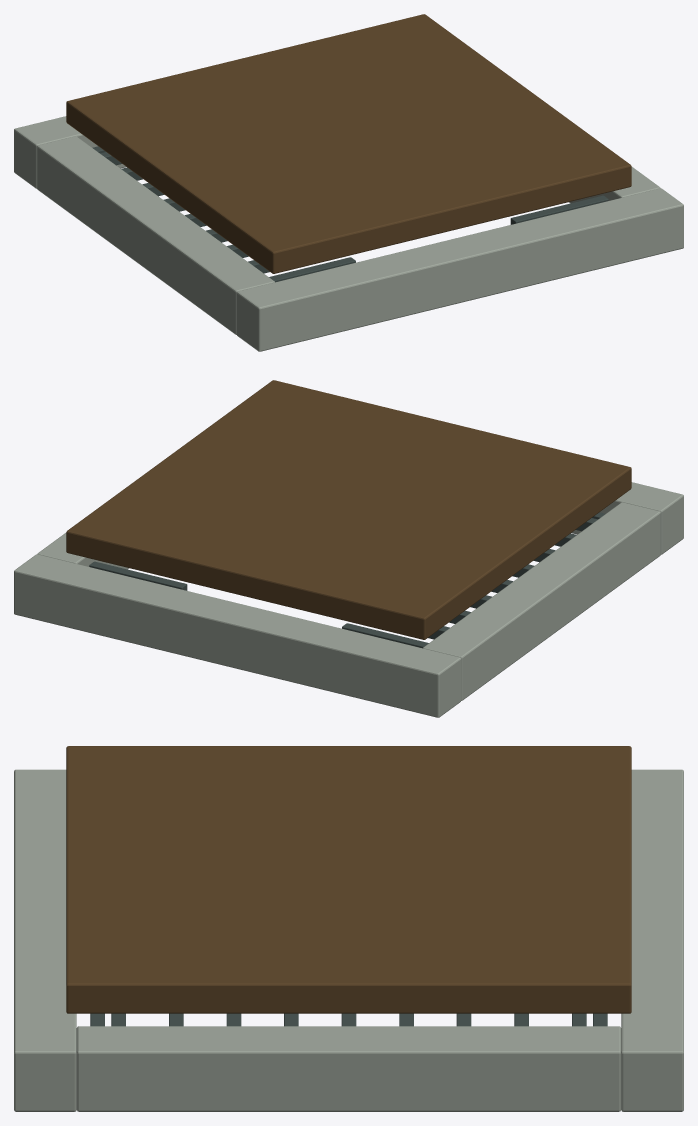
Rendered from source-edit.glb.
3 views of the same model, one above another, from view 1: azimuth 30°, elevation 25°; view 2: azimuth 150°, elevation 25°; view 3: azimuth 270°, elevation 25° (orthographic). The views are drawn at different scales.
Visible parts, largest first — view 1: PIT_Earth, PIT_Kerb, PIT_Kerb.002, PIT_Kerb.001, PIT_Kerb.003, GRATE_Bar.009, GRATE_Bar; view 2: PIT_Earth, PIT_Kerb.001, PIT_Kerb.002, PIT_Kerb, PIT_Kerb.003, GRATE_Bar.017, GRATE_Bar.008; view 3: PIT_Earth, PIT_Kerb.003, PIT_Kerb, PIT_Kerb.001.
Boxes of the visible parts, left/top/right/bottom form: PIT_Earth: left=66, top=14, right=631, bottom=273; PIT_Kerb: left=236, top=188, right=683, bottom=351; PIT_Kerb.002: left=37, top=136, right=274, bottom=334; PIT_Kerb.001: left=14, top=116, right=126, bottom=188; PIT_Kerb.003: left=569, top=167, right=660, bottom=203; GRATE_Bar.009: left=510, top=195, right=608, bottom=224; GRATE_Bar: left=269, top=257, right=355, bottom=282; PIT_Earth: left=66, top=380, right=631, bottom=639; PIT_Kerb.001: left=14, top=554, right=461, bottom=717; PIT_Kerb.002: left=423, top=502, right=660, bottom=700; PIT_Kerb: left=571, top=482, right=683, bottom=554; PIT_Kerb.003: left=37, top=533, right=128, bottom=569; GRATE_Bar.017: left=89, top=561, right=187, bottom=590; GRATE_Bar.008: left=342, top=623, right=428, bottom=648; PIT_Earth: left=66, top=746, right=631, bottom=1013; PIT_Kerb.003: left=76, top=1026, right=621, bottom=1111; PIT_Kerb: left=14, top=769, right=76, bottom=1111; PIT_Kerb.001: left=621, top=769, right=683, bottom=1111.
Size of the model in its own units: 1.6 by 0.28 by 1.6.
